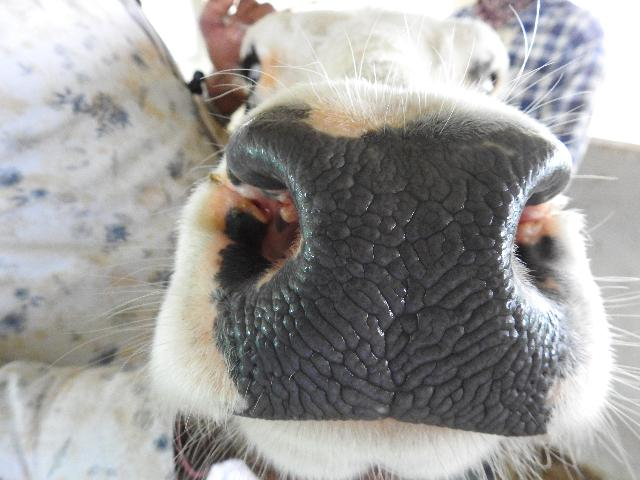Muzzle: (261, 130, 527, 431)
